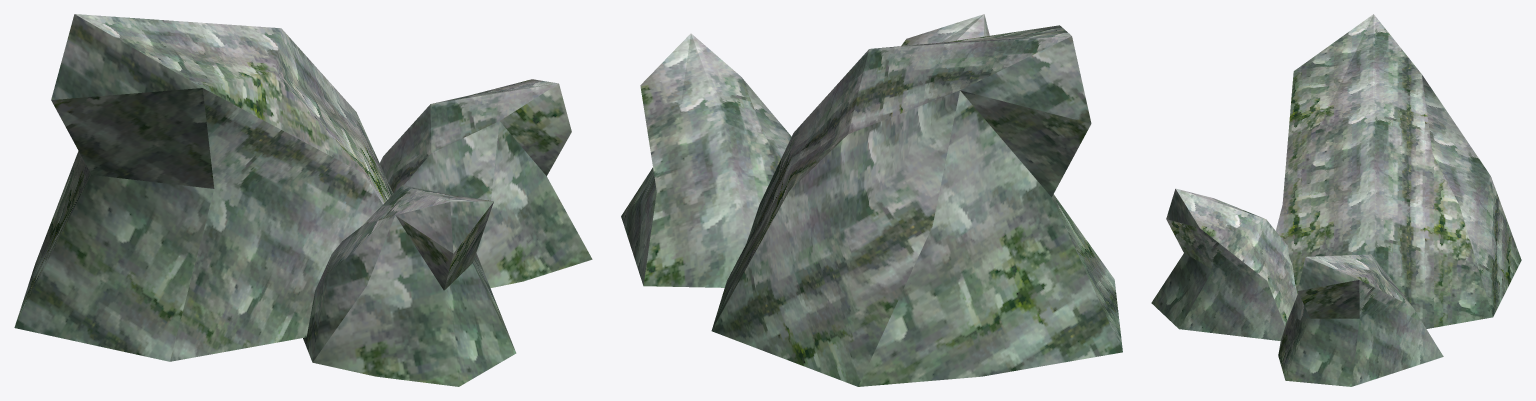
File: nml-bd057.glb
The picture shows the model from 3 angles, left to right: view 1: azimuth 30°, elevation 25°; view 2: azimuth 150°, elevation 25°; view 3: azimuth 270°, elevation 25°; orthographic projection. The views are drawn at different scales.
Visible parts, largest first — view 1: geom_node_0; view 2: geom_node_0; view 3: geom_node_0.
Boxes of the visible parts, x1,y1,x2,y2 form: geom_node_0: [14, 14, 592, 386]; geom_node_0: [621, 14, 1122, 386]; geom_node_0: [1151, 14, 1521, 386].
Size of the model in its own units: 4.34 by 2.43 by 3.82.
Materials: 1 (1 with a texture image).
